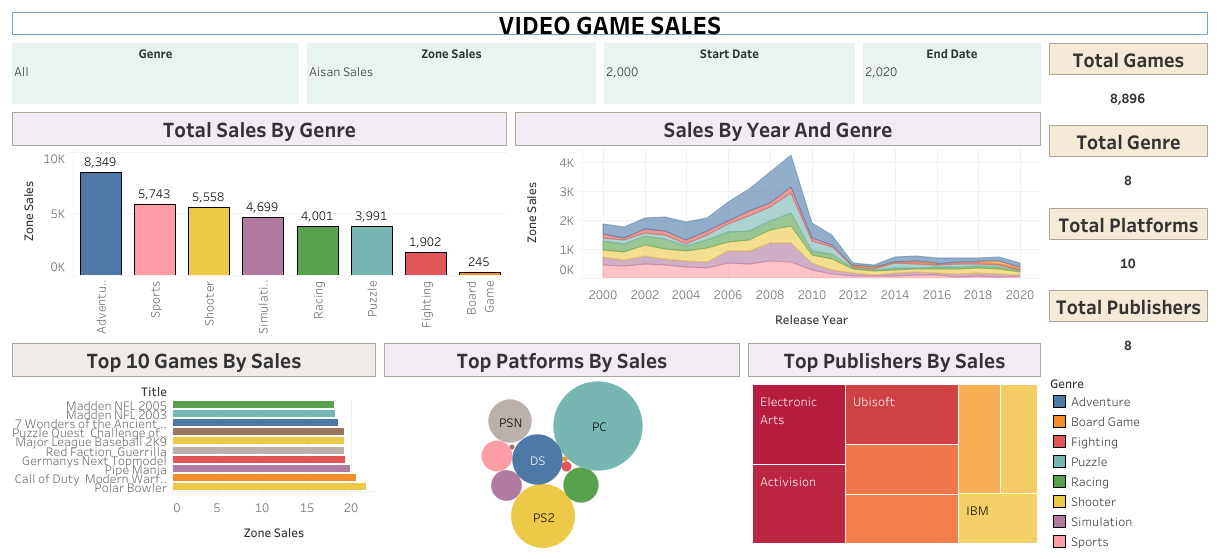

The page's visual inventory and layout, read from the dashboard file:
{"tool":"tableau","page":{"name":"Dashboard 1","canvas":[1000,1000],"units":"permille","ordinal":0},"visuals":[{"type":"text","box":[6.6,14.3,986.9,55.5]},{"type":"filter","title":"Sheet 9","param":"[federated.1x6cz0d162o2km16sdfr10qe9wa4].[none:genre:nk]","box":[6.6,69.8,241.8,122.6]},{"type":"parameter","param":"[Parameters].[Parameter 1]","box":[248.3,69.8,243.3,122.6]},{"type":"parameter","param":"[Parameters].[Parameter 2]","box":[491.7,69.8,212.8,122.6]},{"type":"parameter","param":"[Parameters].[Parameter 3]","box":[704.5,69.8,152.1,122.6]},{"type":"worksheet","title":"Sheet 5","mark":"Automatic","box":[856.6,69.8,136.9,146.8]},{"type":"worksheet","title":"Sheet 1","mark":"Automatic","rows":["Calculation_714383545980829702"],"cols":["genre"],"box":[6.6,192.4,412.1,412.2]},{"type":"worksheet","title":"Sheet 2","mark":"Area","rows":["Calculation_714383545980829702"],"cols":["release_year"],"box":[418.7,192.4,437.9,412.2]},{"type":"worksheet","title":"Sheet 5 (3)","mark":"Automatic","box":[856.6,216.6,136.9,146.8]},{"type":"worksheet","title":"Sheet 5 (2)","mark":"Automatic","box":[856.6,363.4,136.9,146.8]},{"type":"worksheet","title":"Sheet 5 (4)","mark":"Automatic","box":[856.6,510.3,136.9,146.8]},{"type":"worksheet","title":"Sheet 3","mark":"Automatic","rows":["title"],"cols":["Calculation_714383545980829702"],"box":[6.6,604.6,304.8,381.1]},{"type":"worksheet","title":"Sheet 4","mark":"Circle","box":[311.4,604.6,298.8,381.1]},{"type":"worksheet","title":"Sheet 9","mark":"Automatic","box":[610.1,604.6,246.4,381.1]},{"type":"legend","title":"Sheet 1","param":"[federated.1x6cz0d162o2km16sdfr10qe9wa4].[none:genre:nk]","box":[856.6,657.1,136.9,328.6]}]}

Visuals, with their boxes on the dashboard's canvas, which has no fixed pixel size, in thousandths of its width and height (x1, y1, x2, y2). These are canvas units, not pixel positions in the 1219x559 screenshot, which may show the page scaled, cropped or inside an application window:
text: (left=7, top=14, right=994, bottom=70)
"Sheet 9" filter: (left=7, top=70, right=248, bottom=192)
parameter: (left=248, top=70, right=492, bottom=192)
parameter: (left=492, top=70, right=704, bottom=192)
parameter: (left=704, top=70, right=857, bottom=192)
"Sheet 5" worksheet: (left=857, top=70, right=994, bottom=217)
"Sheet 1" worksheet: (left=7, top=192, right=419, bottom=605)
"Sheet 2" worksheet (Area marks): (left=419, top=192, right=857, bottom=605)
"Sheet 5 (3)" worksheet: (left=857, top=217, right=994, bottom=363)
"Sheet 5 (2)" worksheet: (left=857, top=363, right=994, bottom=510)
"Sheet 5 (4)" worksheet: (left=857, top=510, right=994, bottom=657)
"Sheet 3" worksheet: (left=7, top=605, right=311, bottom=986)
"Sheet 4" worksheet (Circle marks): (left=311, top=605, right=610, bottom=986)
"Sheet 9" worksheet: (left=610, top=605, right=856, bottom=986)
"Sheet 1" legend: (left=857, top=657, right=994, bottom=986)
